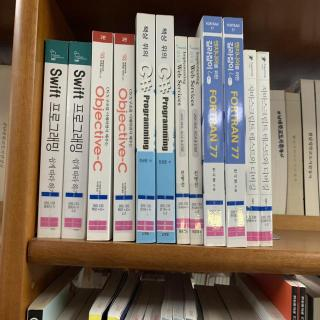book-spine: (61, 41, 92, 239), (37, 39, 67, 238), (86, 31, 113, 241), (223, 17, 247, 248), (202, 16, 226, 246), (156, 15, 176, 242), (113, 33, 134, 241), (136, 13, 155, 242), (187, 37, 204, 245), (244, 49, 260, 247), (175, 36, 190, 245), (257, 51, 272, 246)
